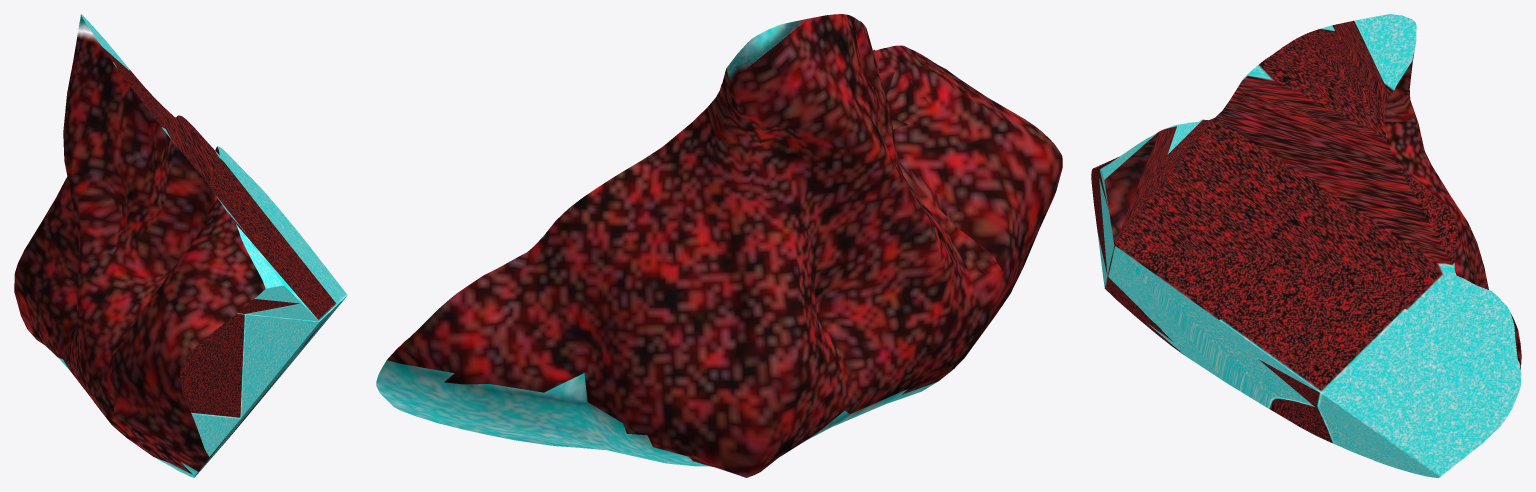
The picture shows the model from 3 angles, left to right: view 1: azimuth 30°, elevation 25°; view 2: azimuth 150°, elevation 25°; view 3: azimuth 270°, elevation 25°; orthographic projection. The views are drawn at different scales.
Parts seen in each view (by area): view 1: SM_VFX_Withered_Spike_08_LOD0; view 2: SM_VFX_Withered_Spike_08_LOD0; view 3: SM_VFX_Withered_Spike_08_LOD0.
Boxes of the visible parts, x1,y1,x2,y2 form: SM_VFX_Withered_Spike_08_LOD0: (14, 14, 347, 477); SM_VFX_Withered_Spike_08_LOD0: (376, 14, 1062, 477); SM_VFX_Withered_Spike_08_LOD0: (1091, 14, 1521, 477).
Bounding box in the file's own units: 7.03 × 7.39 × 7.75.
Materials: 1 (1 with a texture image).
